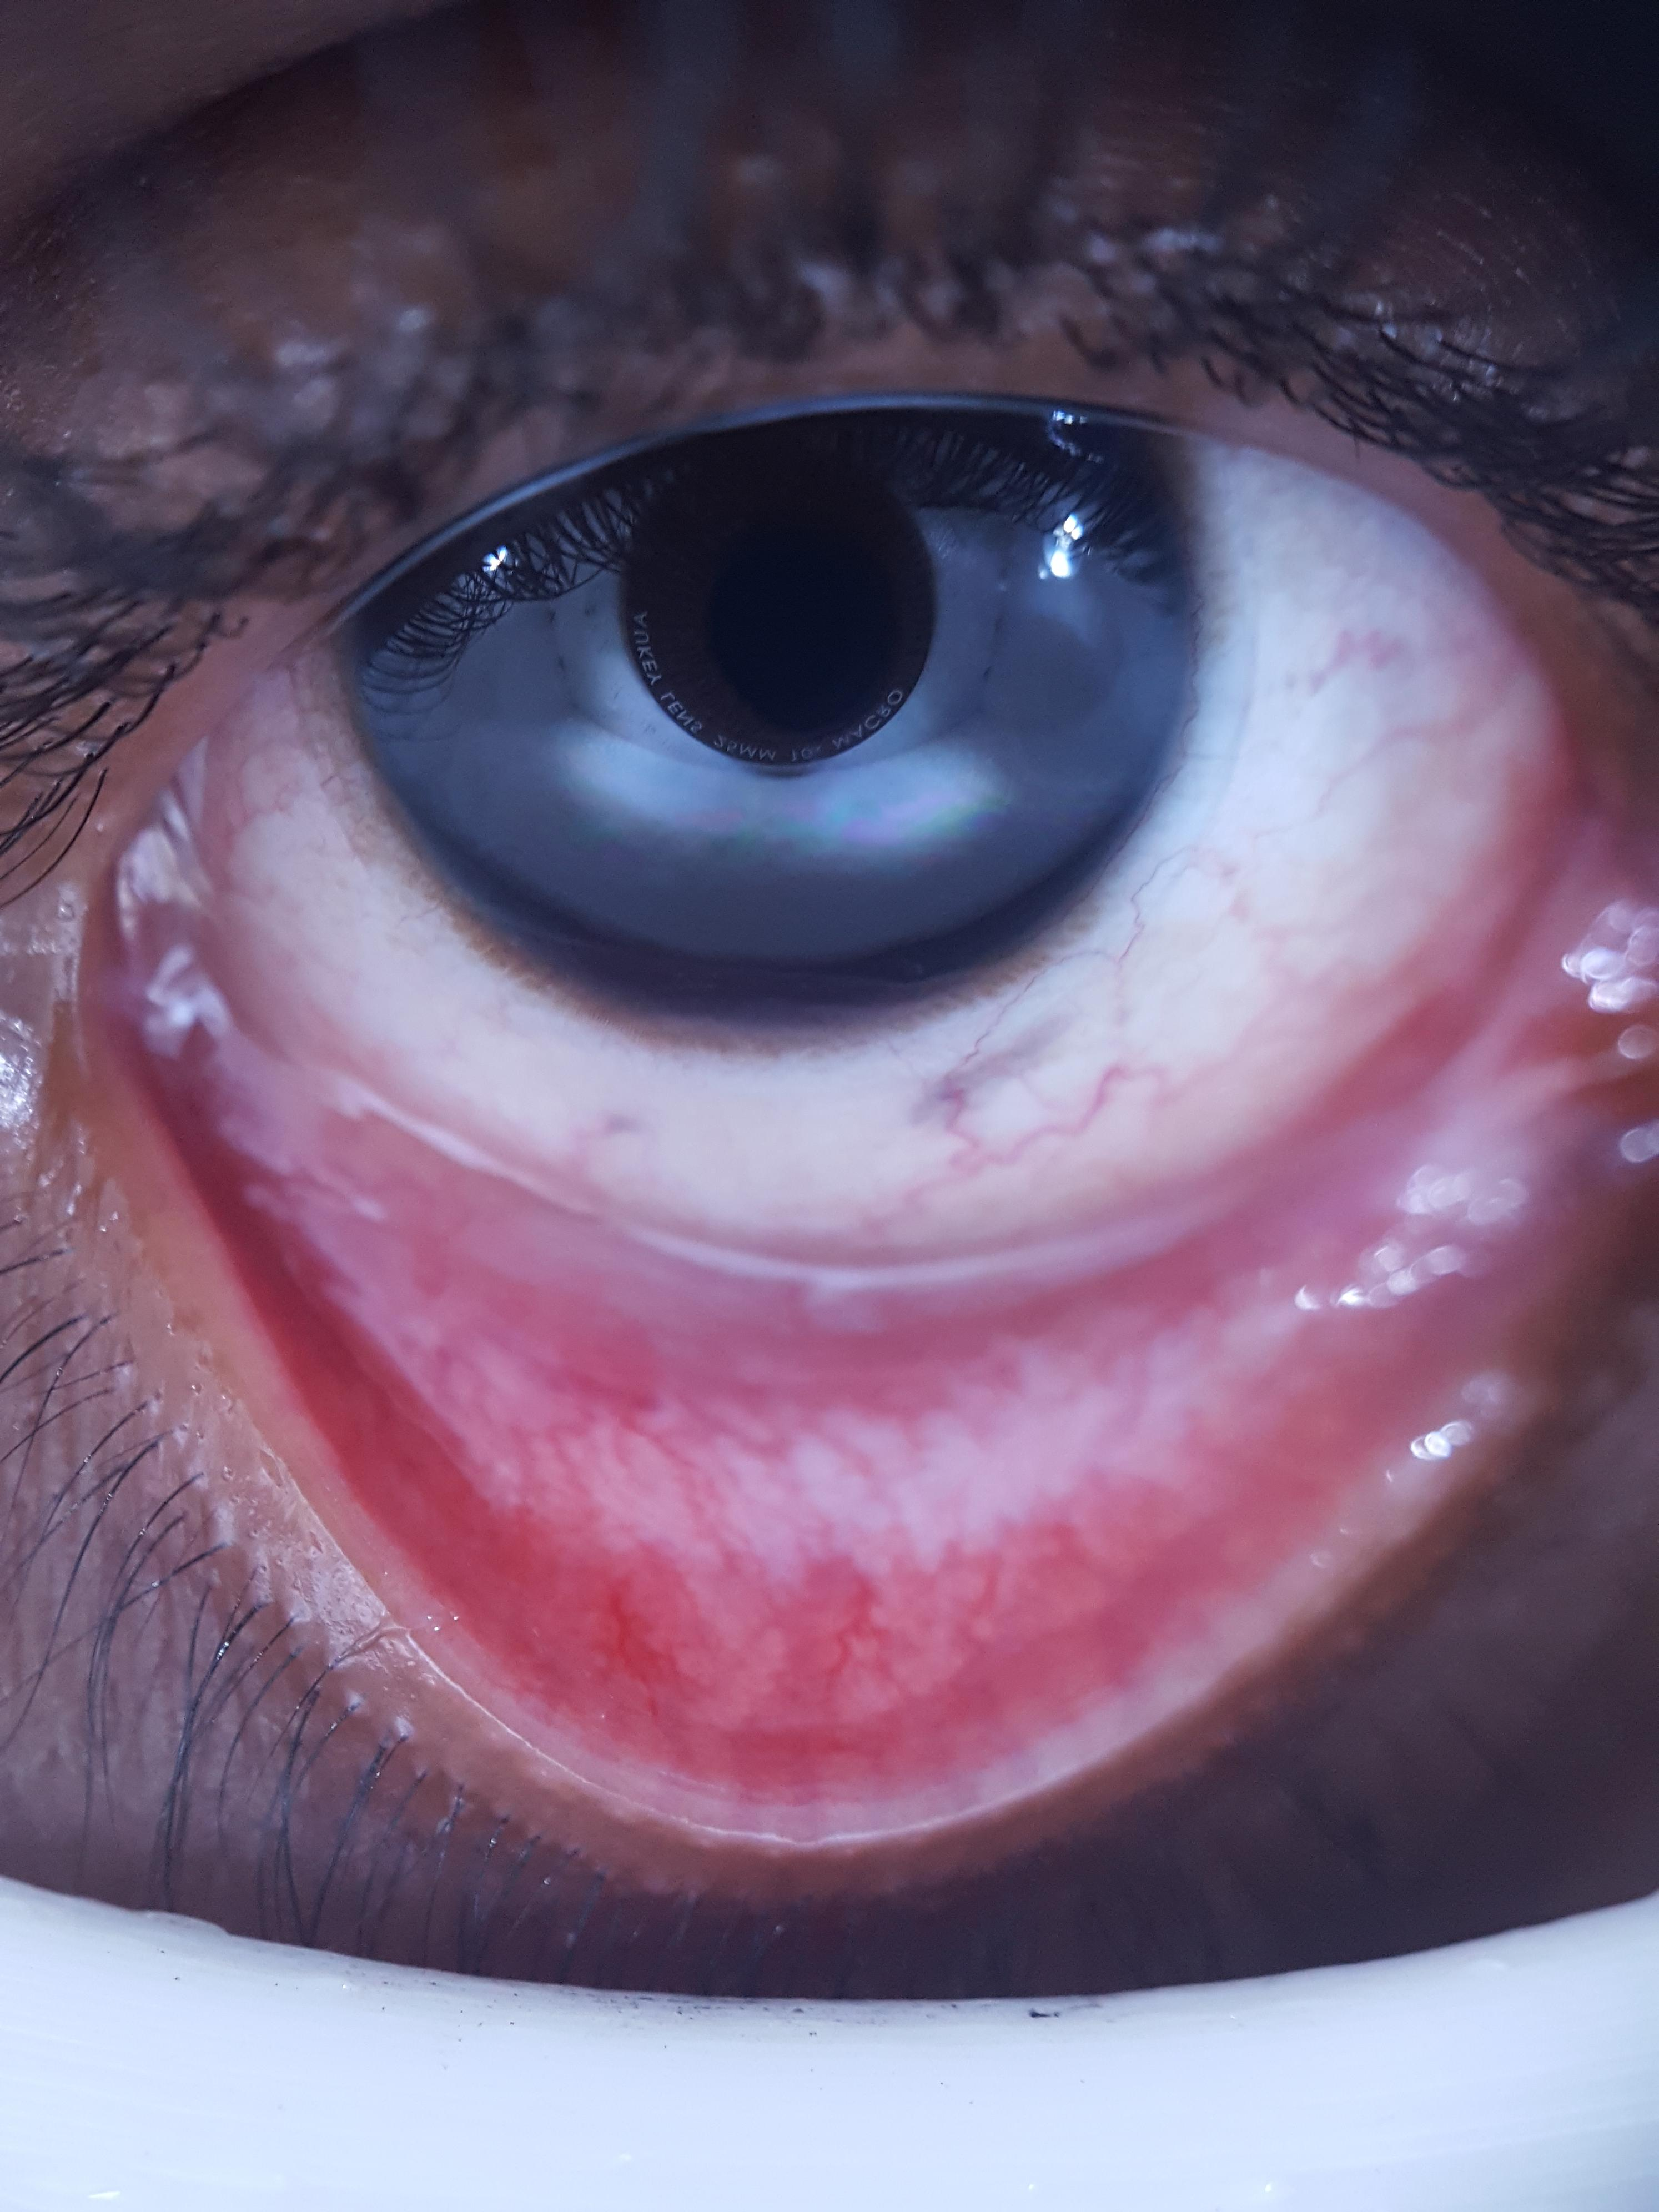forniceal: (207, 1071, 1502, 1566)
forniceal_palpebral: (118, 1038, 1532, 1801)
palpebral: (125, 1043, 1507, 1794)
